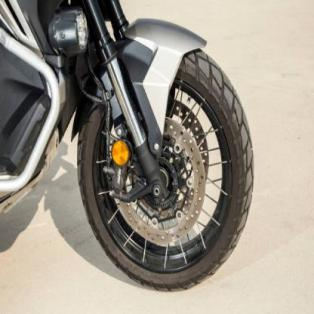Motocicleta: (0, 0, 256, 297)
